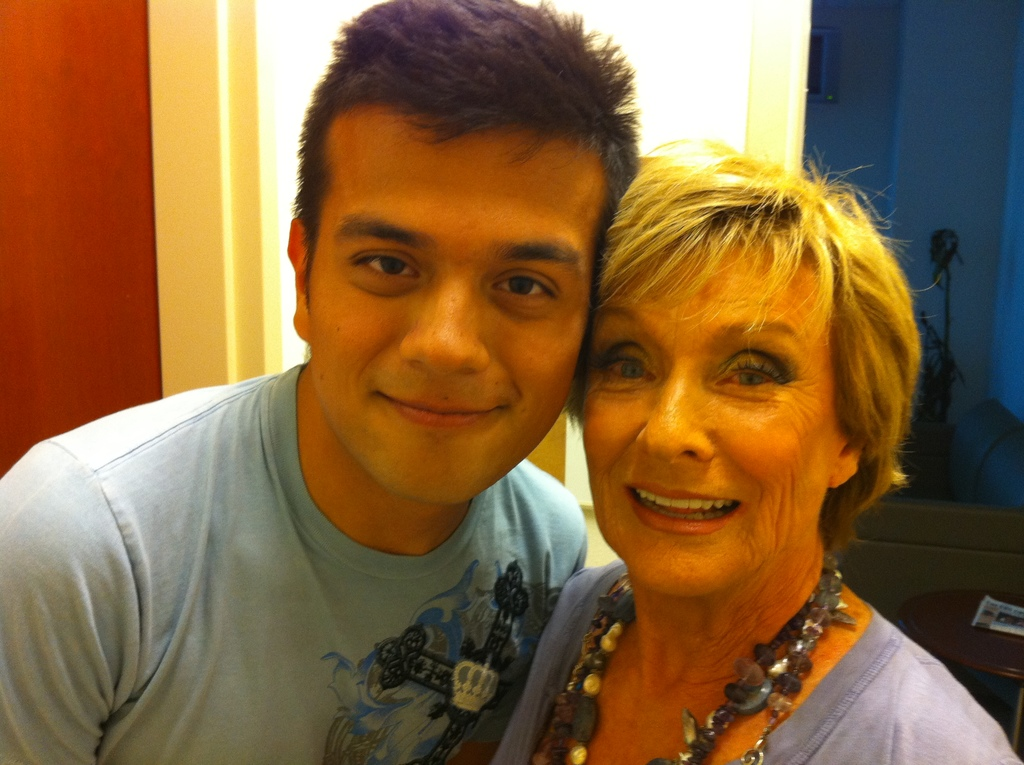Human-face: (315, 96, 605, 504), (580, 246, 845, 594)
